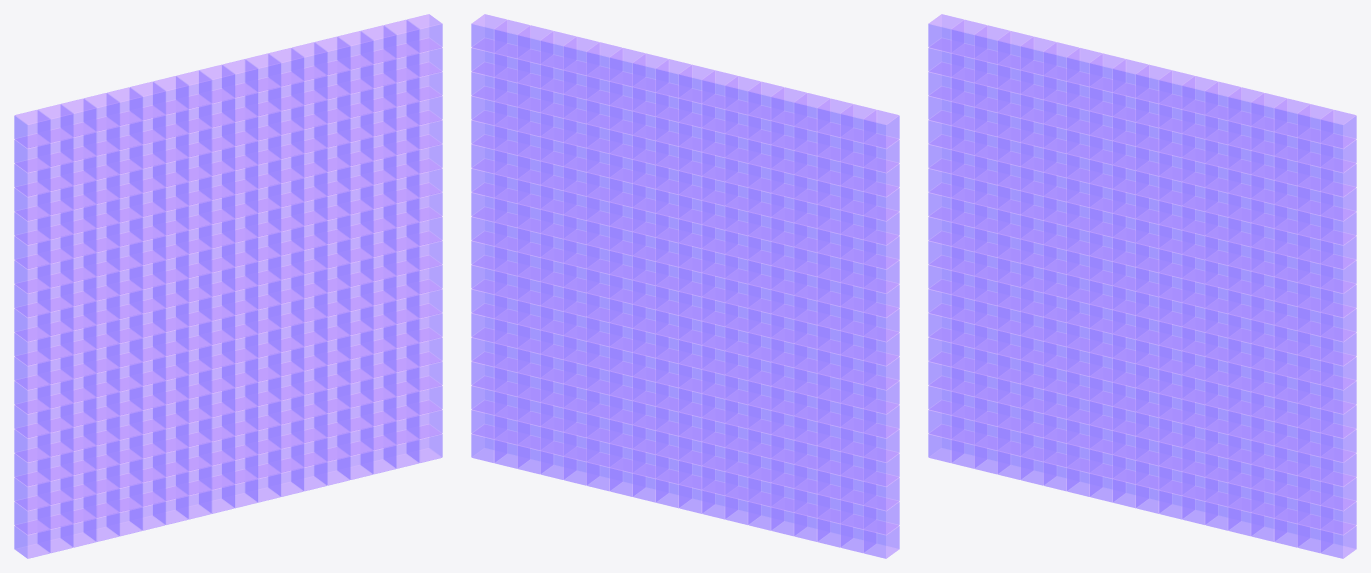
The model's file is board arrays.glb.
The picture shows the model from 3 angles, left to right: view 1: azimuth 30°, elevation 25°; view 2: azimuth 150°, elevation 25°; view 3: azimuth 330°, elevation 25°; orthographic projection.
Parts seen in each view (by area): view 1: Plane; view 2: Plane; view 3: Plane.
Part boxes in pixels (x1,y1,x2,y2): Plane: [14, 14, 442, 558]; Plane: [471, 14, 899, 558]; Plane: [928, 14, 1356, 558].
Size of the model in its own units: 18 by 18 by 1.
